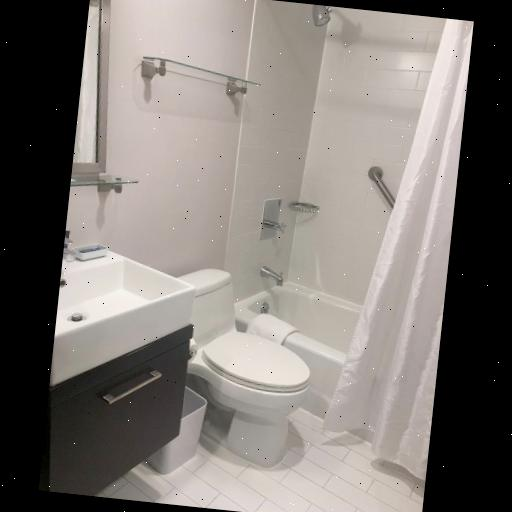clean_bathtub: (234, 273, 441, 479)
clean_floor: (93, 408, 423, 512)
clean_sink: (43, 242, 194, 494)
clean_toilet: (156, 253, 326, 475)
